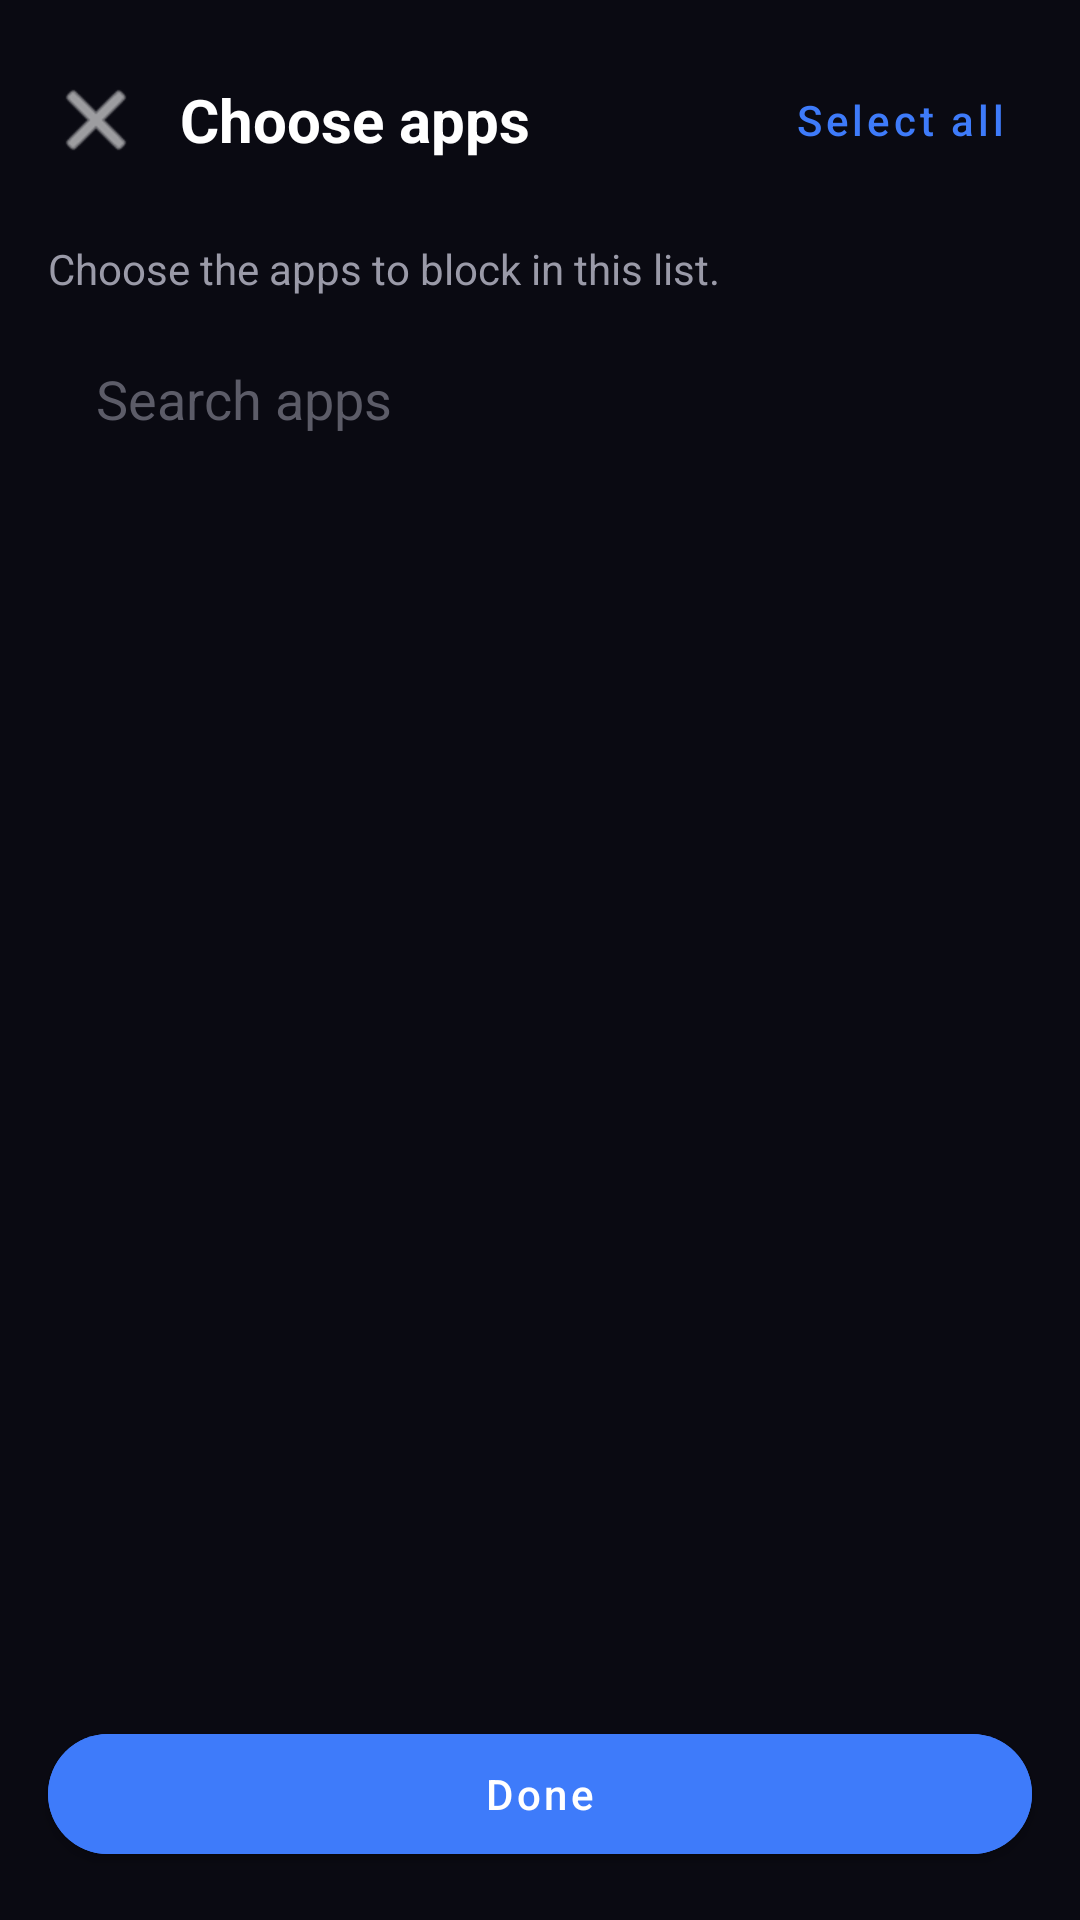

Where icons sit on this 1080px×1920px app screen, as (x1, y1, x2, y2):
Close: (66, 90, 126, 150)
